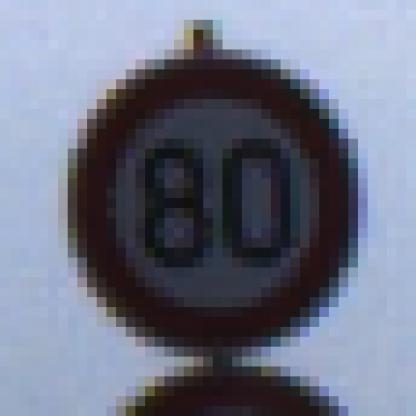Speed Limit 80: (74, 64, 356, 350)
